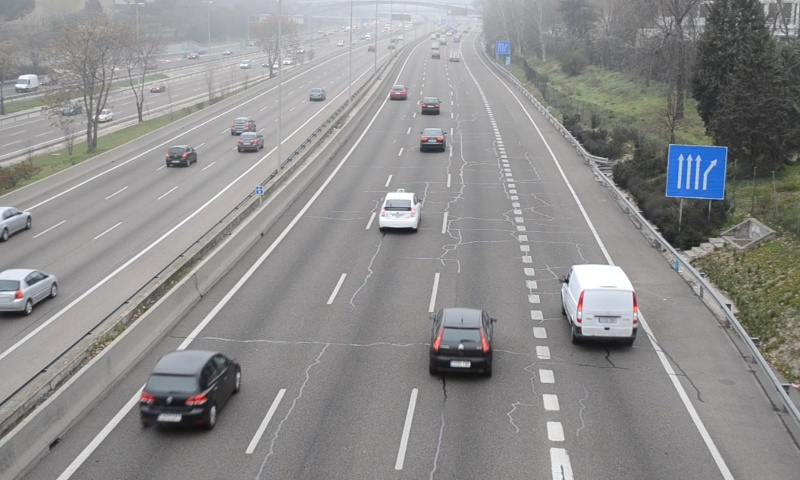car: (140, 351, 242, 428), (429, 308, 492, 376), (378, 192, 419, 228), (419, 126, 446, 151), (420, 96, 439, 115), (388, 84, 408, 100)
van: (563, 264, 636, 343)
